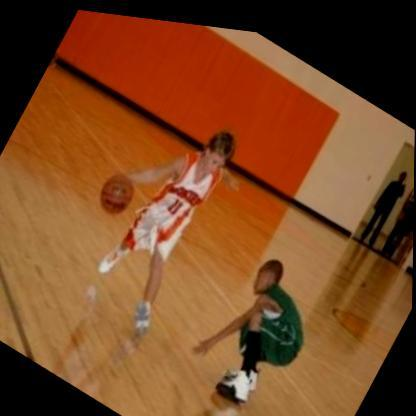basketball: (94, 160, 143, 220)
